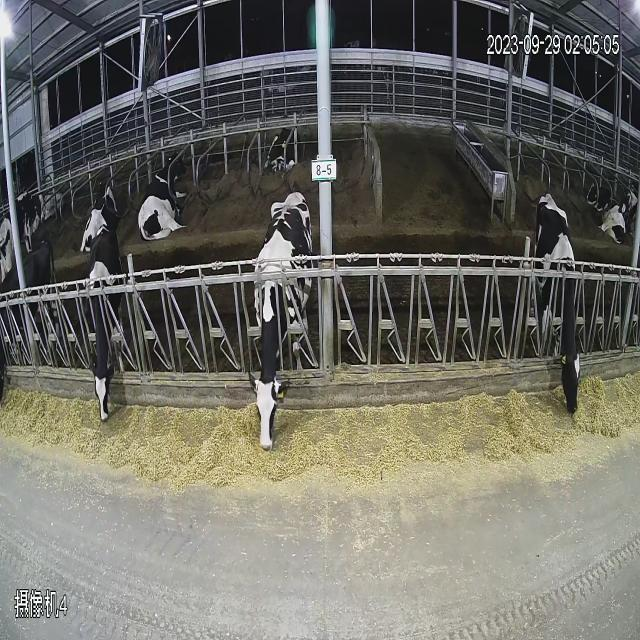feeding: (239, 172, 323, 449), (73, 231, 158, 439), (530, 183, 588, 460), (0, 231, 63, 420)
lying down: (133, 135, 202, 255), (585, 135, 640, 254), (254, 84, 303, 184), (75, 152, 122, 243), (40, 167, 70, 224)
